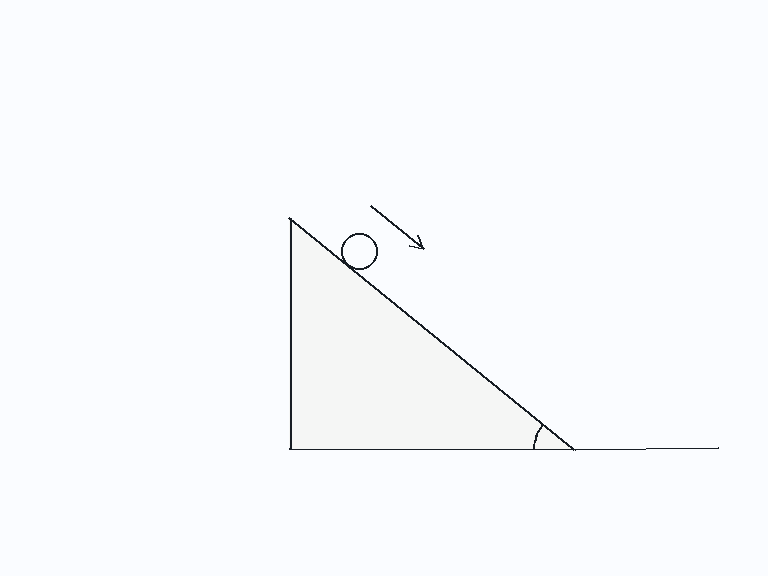ball: (339, 231, 379, 271)
ramp: (288, 217, 576, 451)
